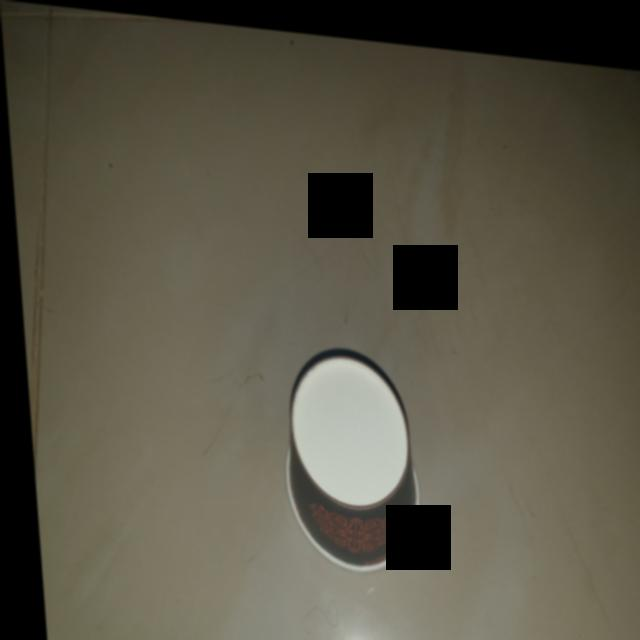cups: (266, 328, 424, 572)
